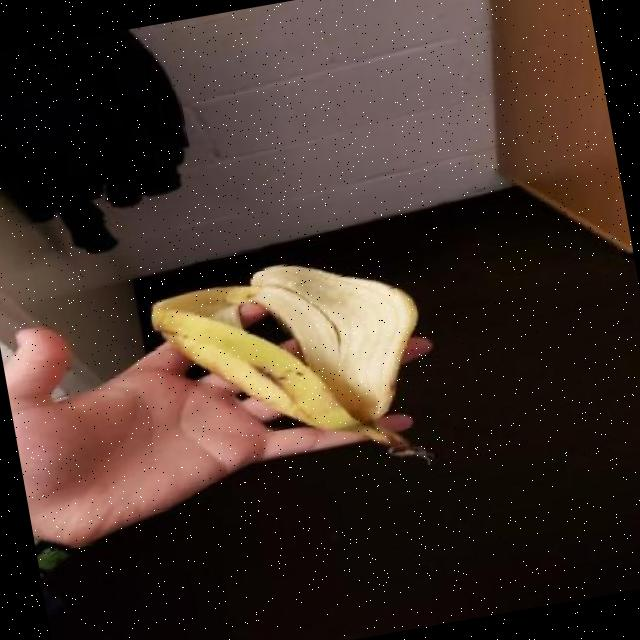banana-peel: (142, 238, 444, 503)
